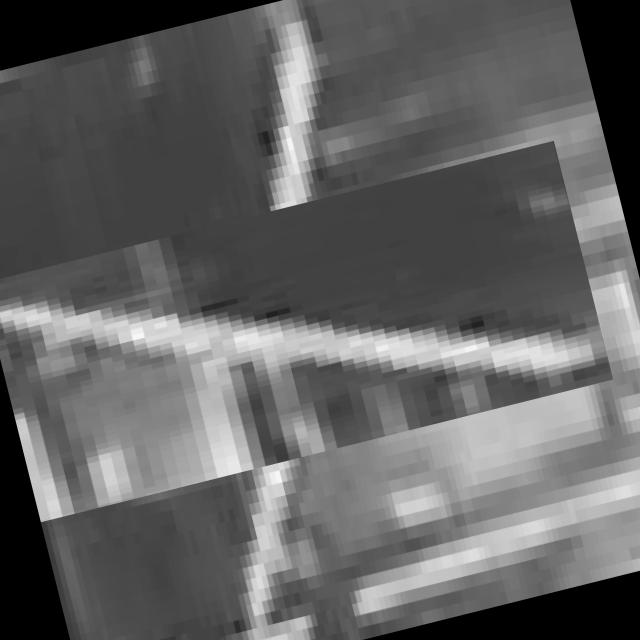stick: (12, 70, 543, 601)
